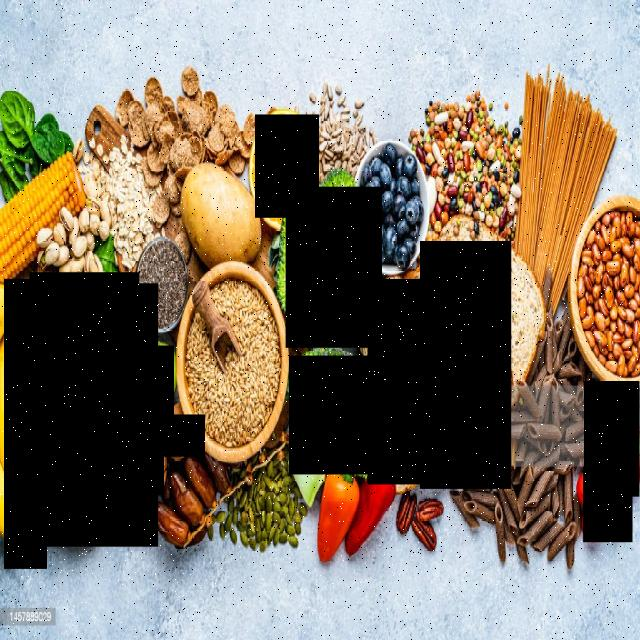Avocado: (30, 273, 140, 376), (85, 346, 174, 419)
Banana: (17, 283, 158, 547), (5, 279, 48, 569)
Bread: (420, 241, 511, 490), (368, 280, 458, 486)
Broccoli: (286, 188, 382, 349), (289, 357, 384, 475)
Orange: (255, 115, 319, 218)
Tomato: (584, 380, 640, 497), (584, 467, 633, 542)
Walnut: (124, 418, 164, 497), (151, 415, 205, 457)
